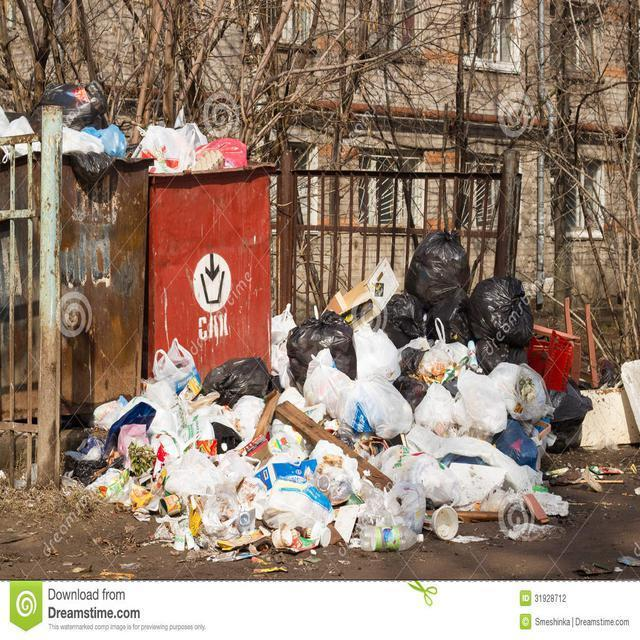garbage: (101, 356, 541, 536), (319, 254, 564, 457), (45, 75, 236, 165)
